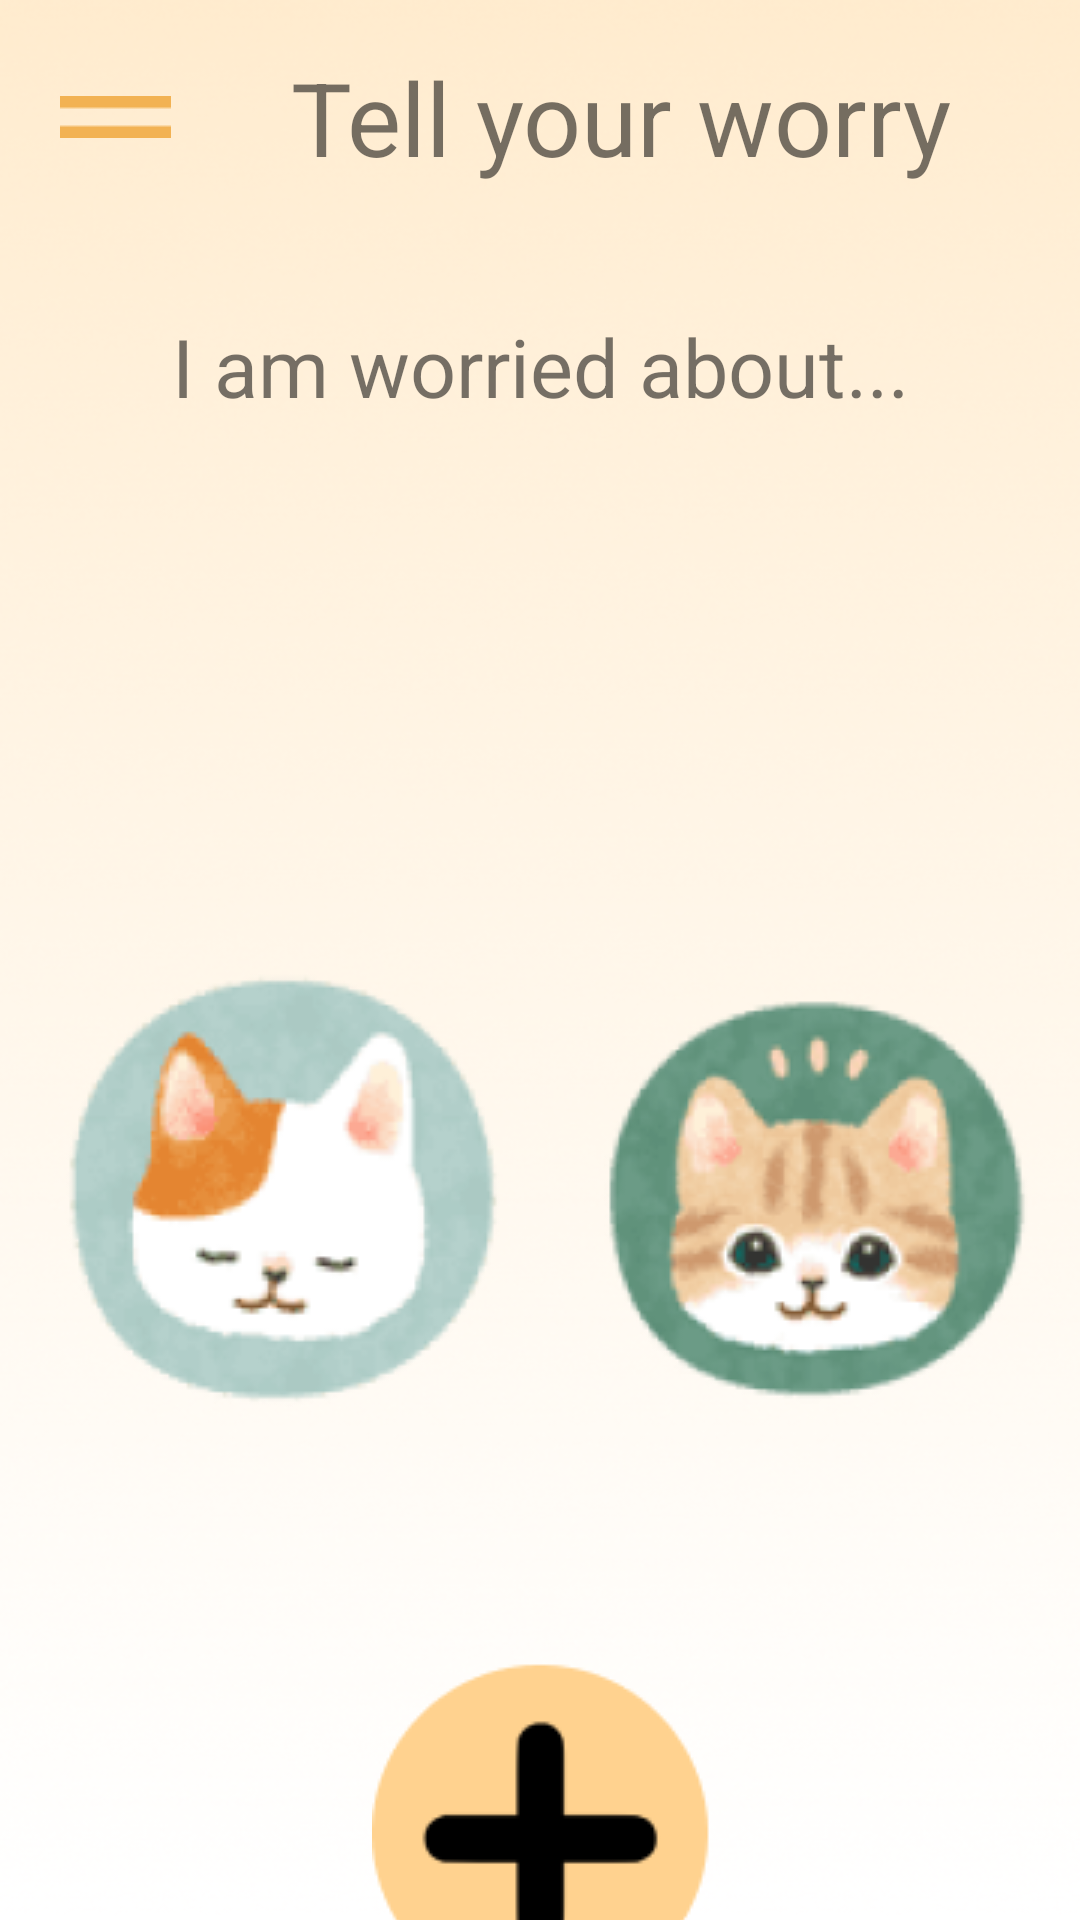

Where to tap for icons on this 1080 × 1920 app screen, as (x=x, y=y):
menu: (x=115, y=117)
